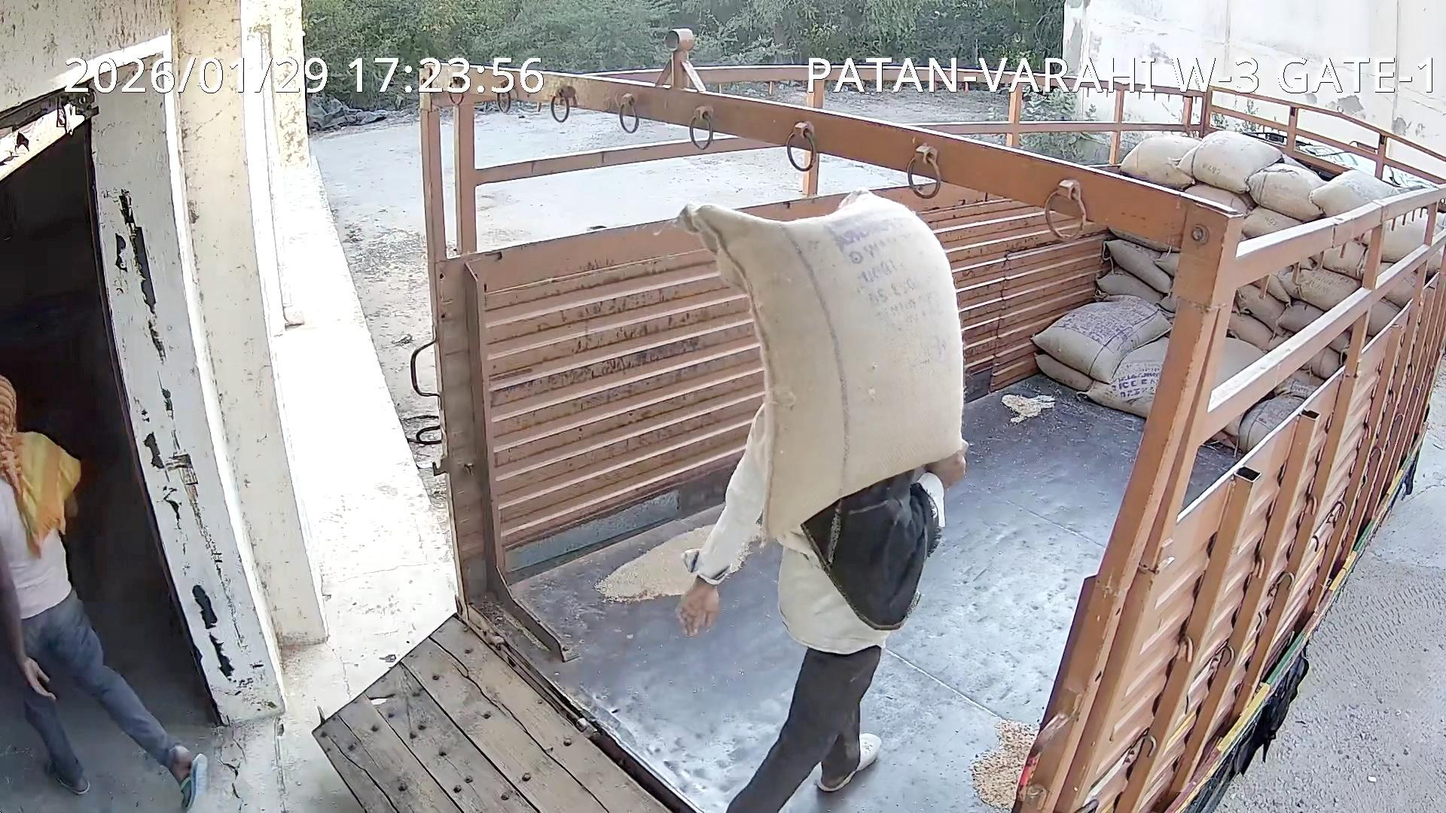Sack: (679, 190, 964, 534)
